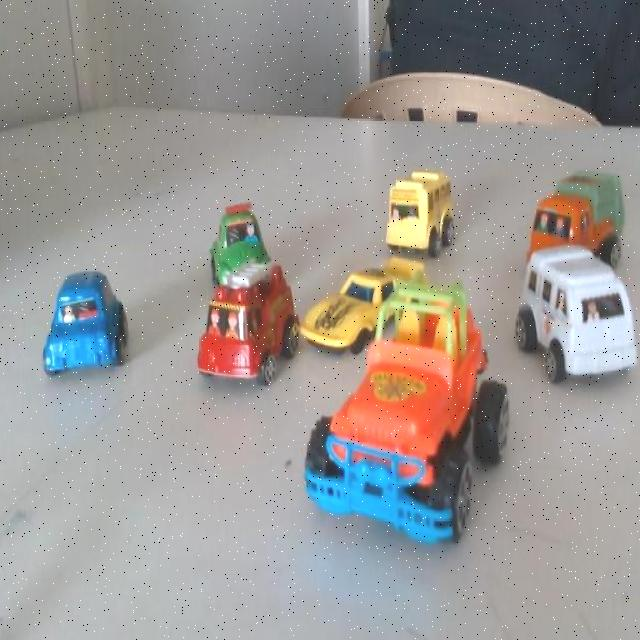car: (288, 339, 474, 568), (21, 255, 142, 416), (292, 248, 423, 374), (192, 261, 284, 400), (527, 259, 629, 370), (523, 166, 613, 274), (378, 162, 444, 256), (200, 206, 267, 298)
